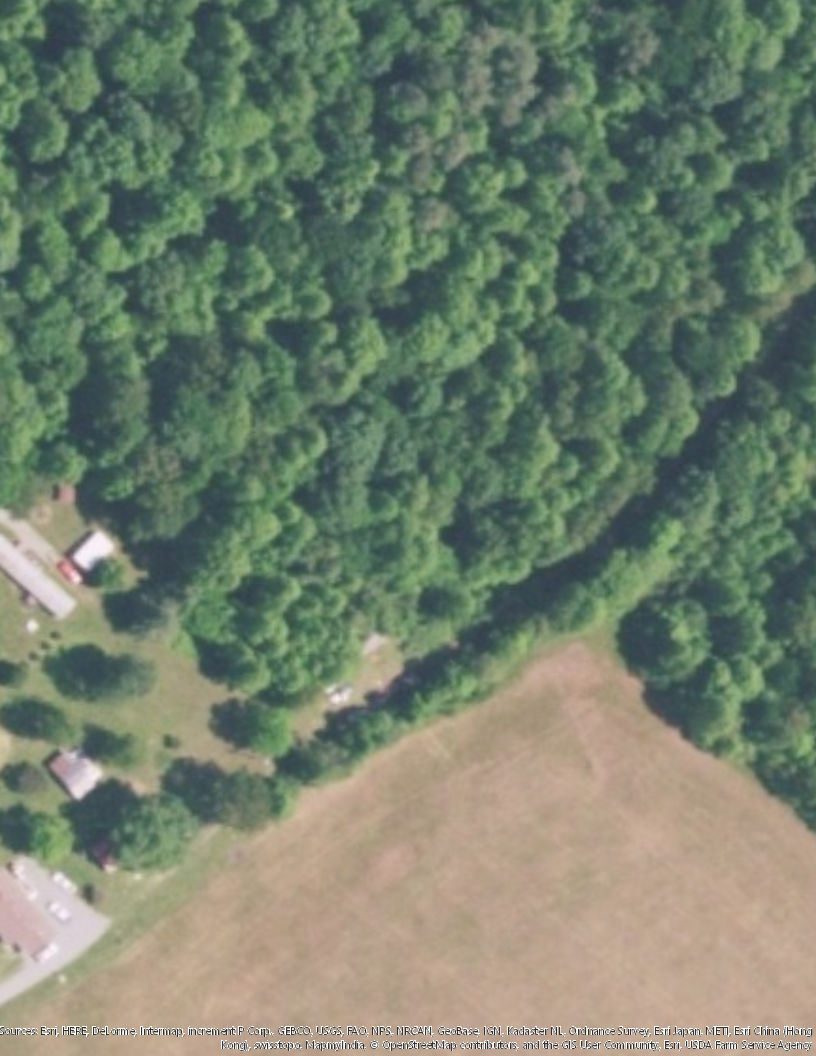cafo: (1, 540, 81, 619)
